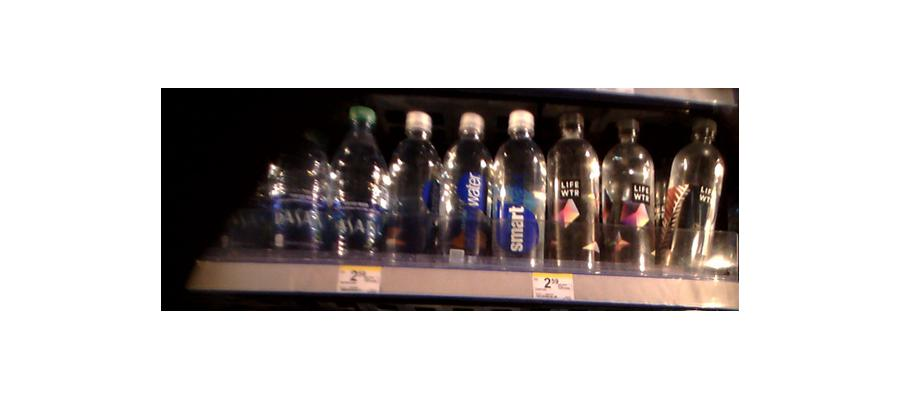bottle: (660, 119, 727, 277), (327, 105, 385, 263), (544, 111, 602, 268), (383, 113, 444, 259), (491, 112, 548, 268), (601, 121, 659, 270), (266, 122, 324, 258), (443, 116, 492, 260)
